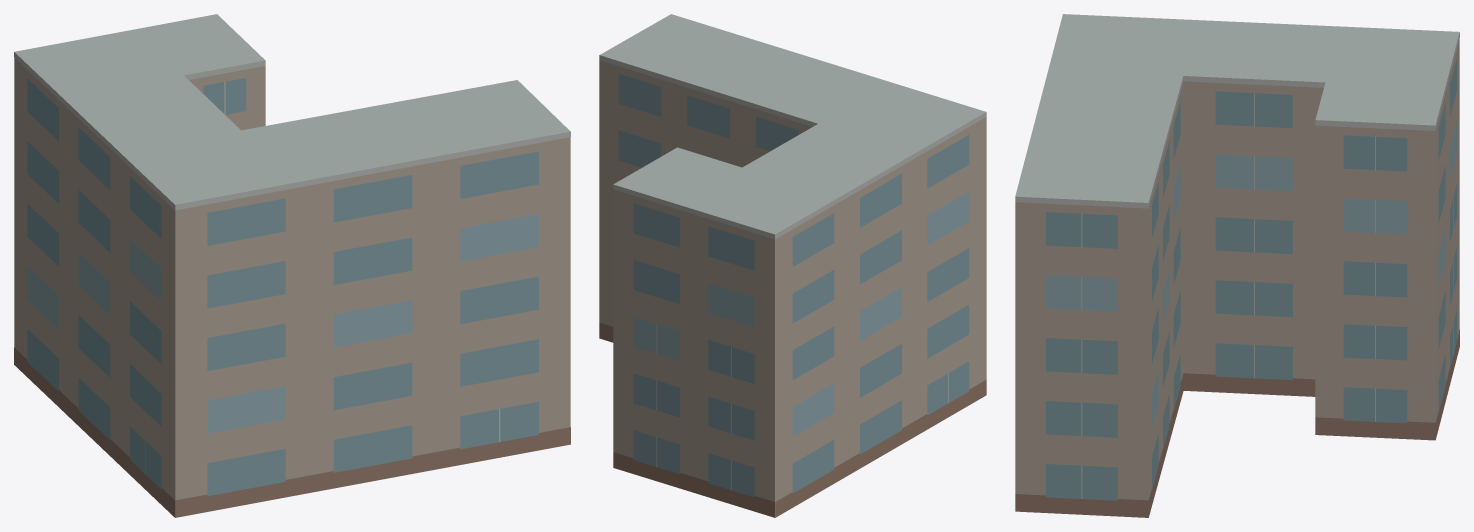
Rendered from survey-upis-32569852.glb.
The picture shows the model from 3 angles, left to right: view 1: azimuth 30°, elevation 25°; view 2: azimuth 150°, elevation 25°; view 3: azimuth 270°, elevation 25°; orthographic projection. The views are drawn at different scales.
Parts seen in each view (by area): view 1: survey-upis-32569852.tmp; view 2: survey-upis-32569852.tmp; view 3: survey-upis-32569852.tmp.
Part boxes in pixels (<box>): survey-upis-32569852.tmp: <box>14,14,570,517</box>; survey-upis-32569852.tmp: <box>599,14,986,517</box>; survey-upis-32569852.tmp: <box>1015,14,1459,517</box>.
Bounding box in the file's own units: 18.03 × 14 × 17.93.
